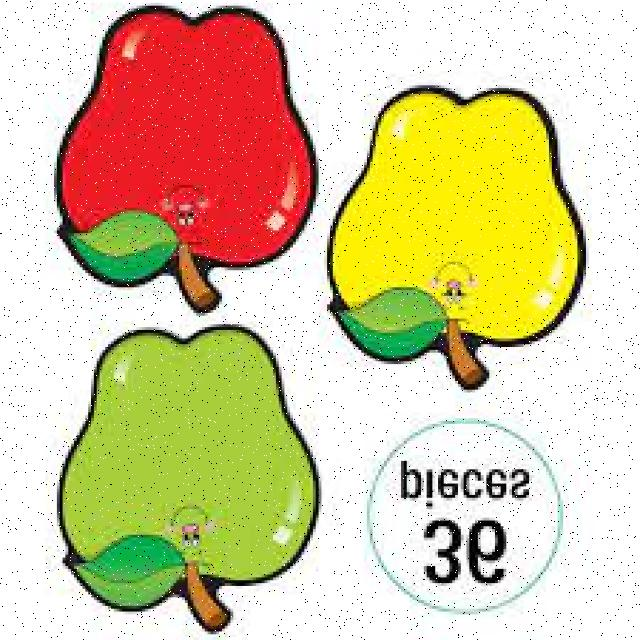Apple: (55, 330, 318, 626), (59, 18, 311, 288)
